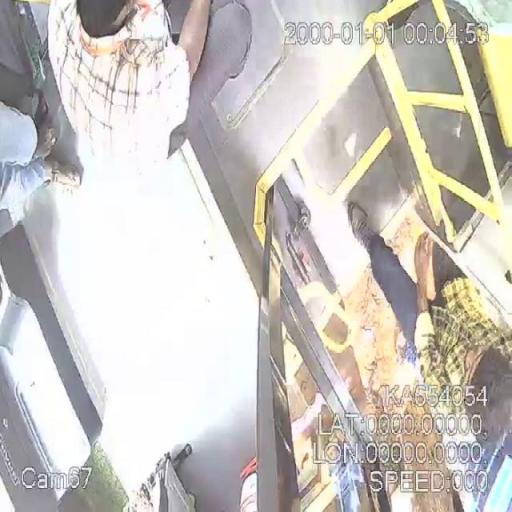persona: (345, 200, 512, 512), (44, 0, 214, 178)
